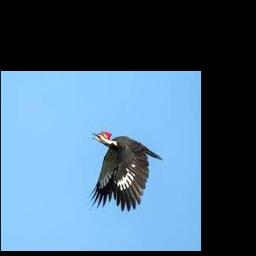Woodpecker: (87, 131, 163, 212)
